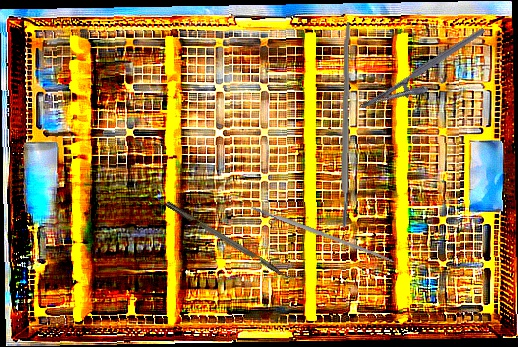Chopper: (165, 194, 302, 287)
Needle Holder: (358, 26, 497, 127)
Scalpel Handle: (250, 203, 395, 265), (339, 21, 352, 228)
